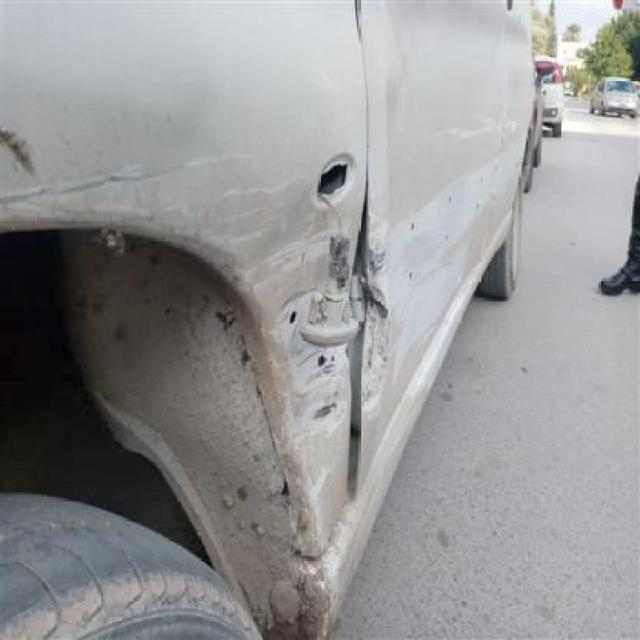car damage: (0, 225, 295, 243), (0, 368, 271, 374), (0, 0, 123, 2)
